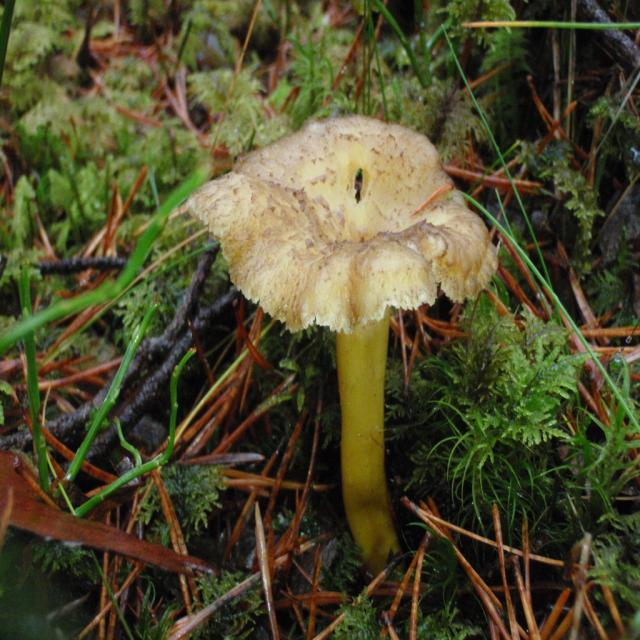Mushroom: (189, 114, 494, 589)
